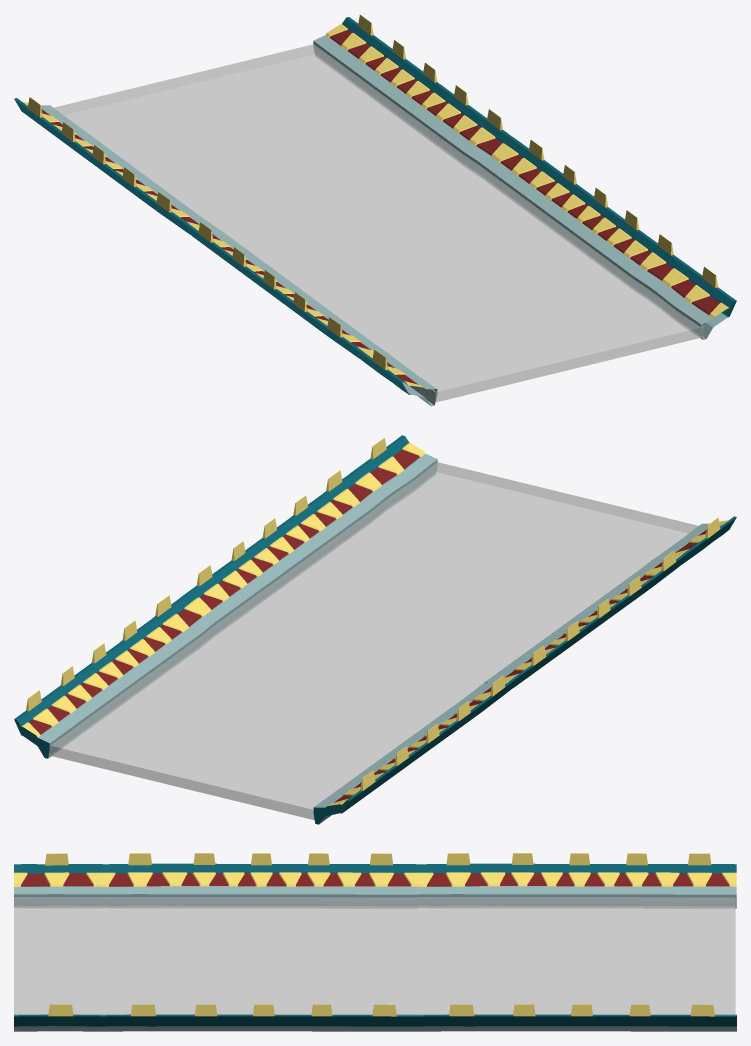
Rendered from RECTA.FBX.
The picture shows the model from 3 angles, top to bottom: view 1: azimuth 30°, elevation 25°; view 2: azimuth 150°, elevation 25°; view 3: azimuth 270°, elevation 25°; orthographic projection. The views are drawn at different scales.
Parts seen in each view (by area): view 1: Box008, RECTA020, RECTA007, RECTA008; view 2: Box008, RECTA020, RECTA007, RECTA008; view 3: Box008, RECTA020, RECTA007, RECTA008.
Part boxes in pixels (x1,y1,x2,y2): Box008: (54, 44, 703, 402); RECTA020: (14, 14, 519, 235); RECTA007: (185, 139, 688, 359); RECTA008: (354, 266, 736, 406); Box008: (49, 462, 698, 820); RECTA020: (14, 594, 519, 824); RECTA007: (185, 470, 688, 688); RECTA008: (355, 435, 736, 563); Box008: (14, 897, 735, 1014); RECTA020: (418, 853, 736, 1031); RECTA007: (101, 853, 418, 1031); RECTA008: (14, 853, 102, 1031).
Bounding box in the file's own units: 122 × 15 × 245.
